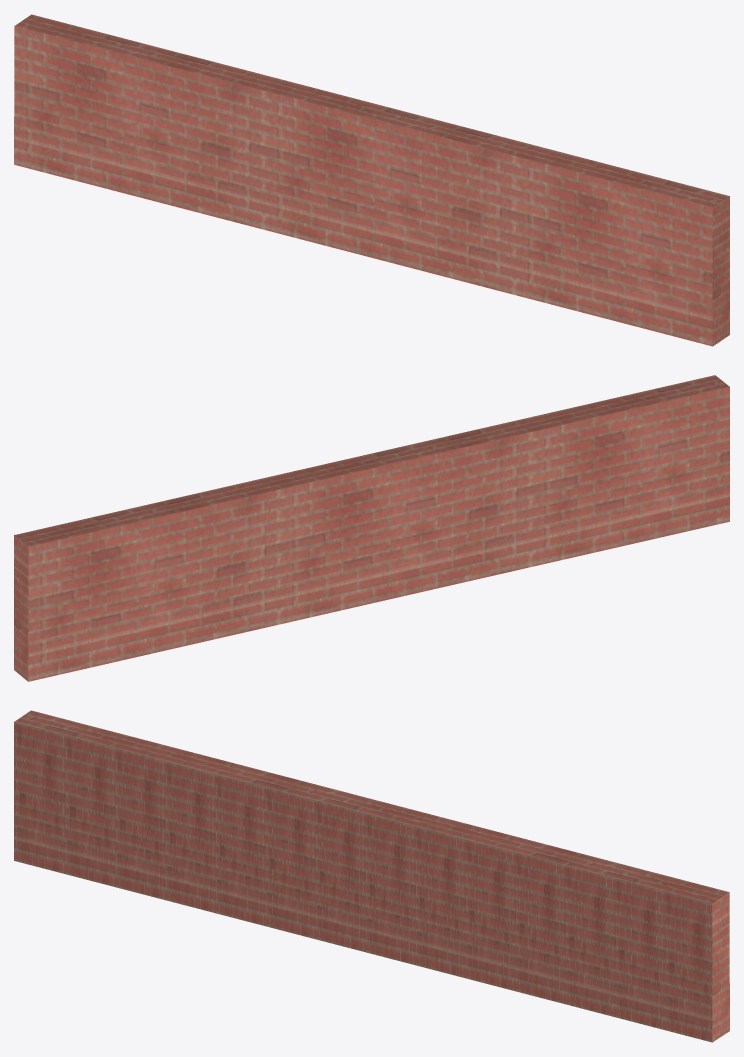
Rendered from bushes02.glb.
3 views of the same model, one above another, from view 1: azimuth 90°, elevation 25°; view 2: azimuth 150°, elevation 25°; view 3: azimuth 270°, elevation 25° (orthographic). The views are drawn at different scales.
Visible parts, largest first — view 1: bushes02; view 2: bushes02; view 3: bushes02.
Part boxes in pixels (x1=…): bushes02: x1=14, y1=14, x2=729, y2=346; bushes02: x1=14, y1=375, x2=729, y2=681; bushes02: x1=14, y1=710, x2=729, y2=1042.
Size of the model in its own units: 916 by 306 by 1433.
1 material, 1 textured.
